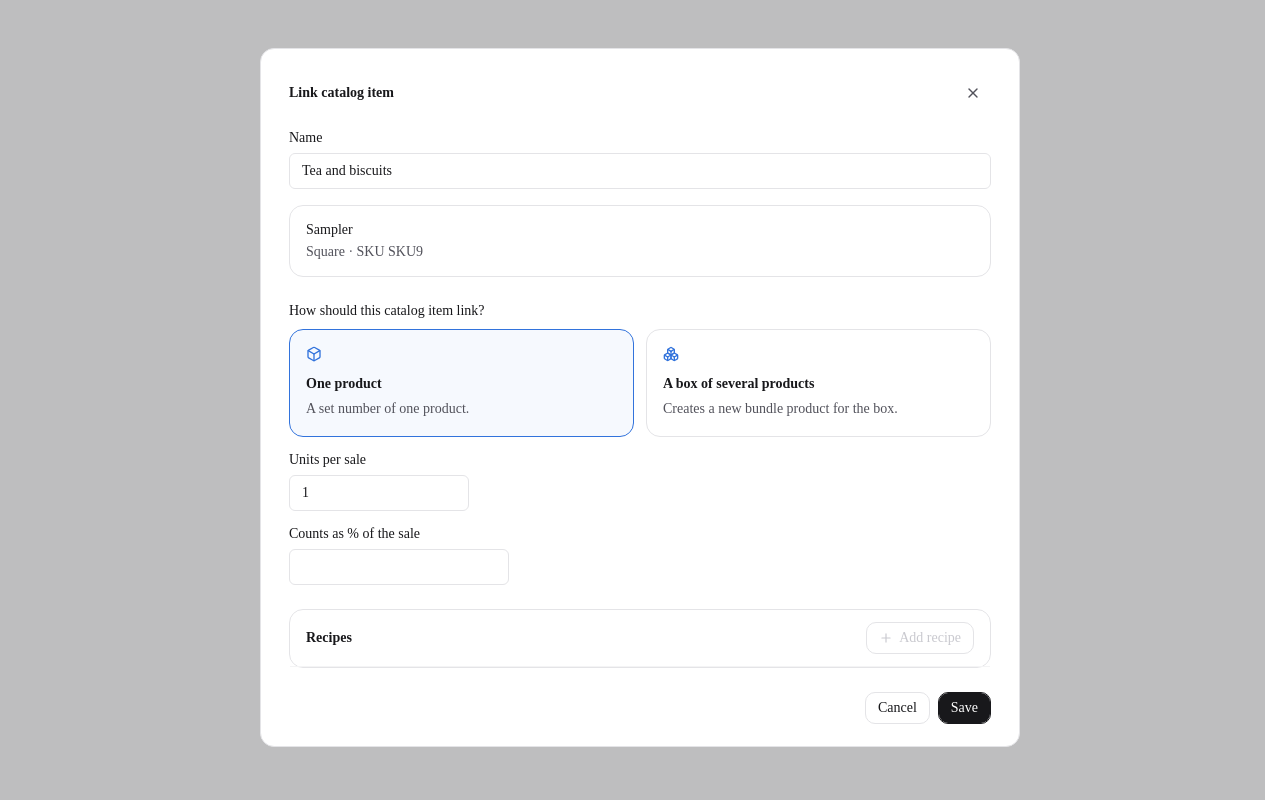
dismissing the track dialog › asks before dropping a typed name
This screenshot has width=1280, height=800.
Replace the text in the field labelled "Name" with "Linzer": (640, 171) [289, 153, 991, 189]
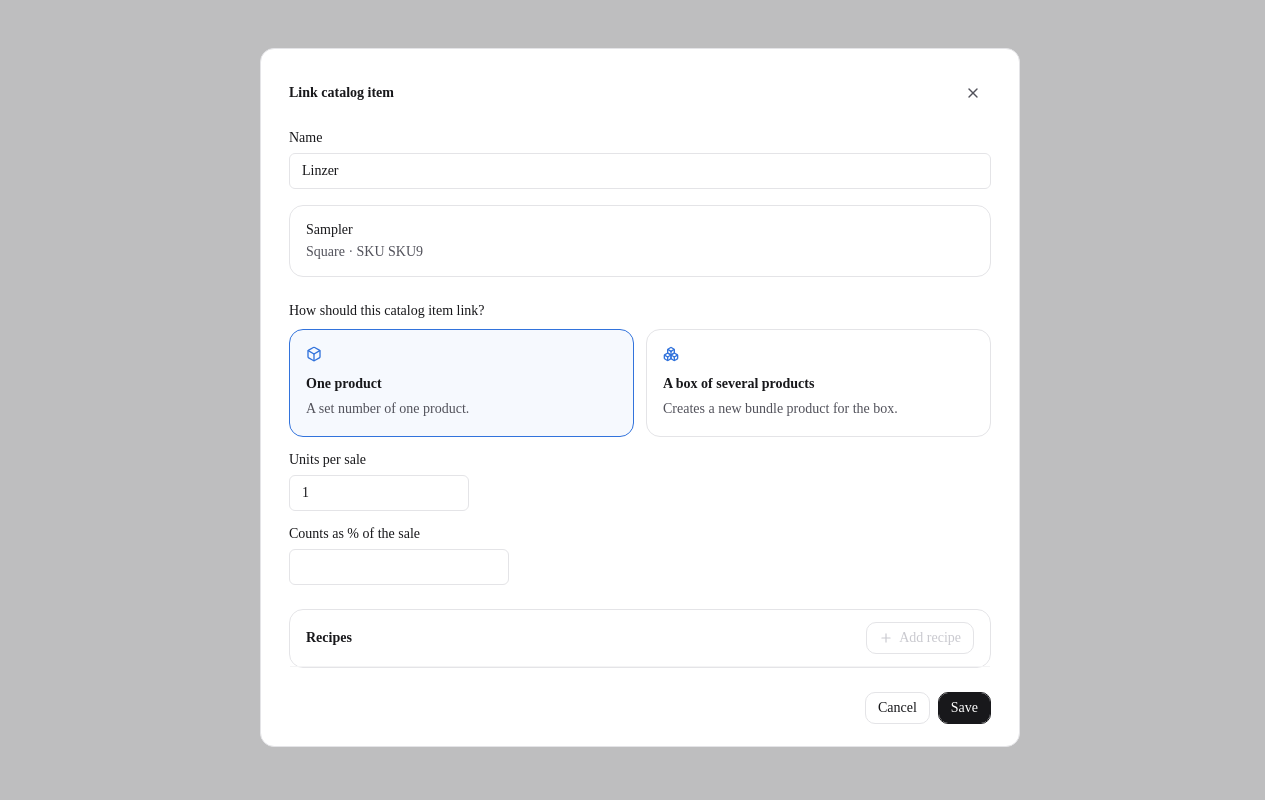
Click the button "Cancel": click(897, 708) [865, 692, 930, 724]
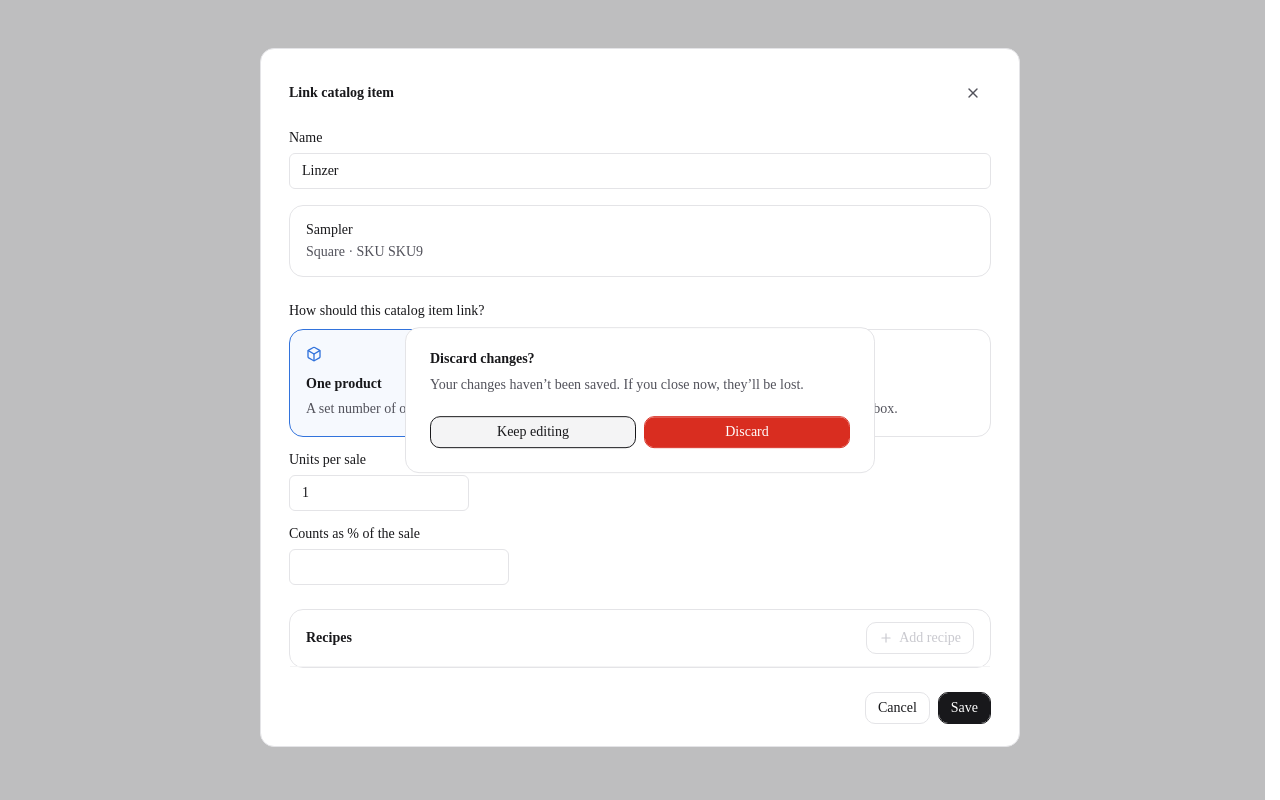
Expected: the heading "Discard changes?" is shown, [430, 351, 535, 366]
